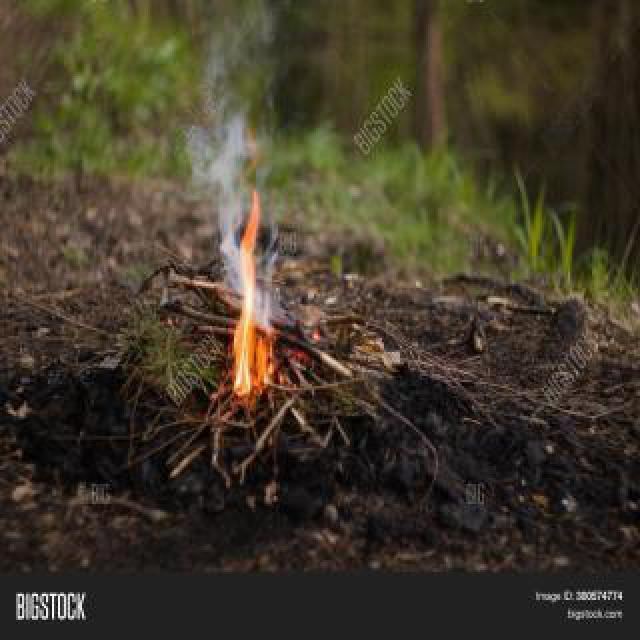Fire: (226, 190, 280, 396)
Smoke: (182, 22, 284, 332)
